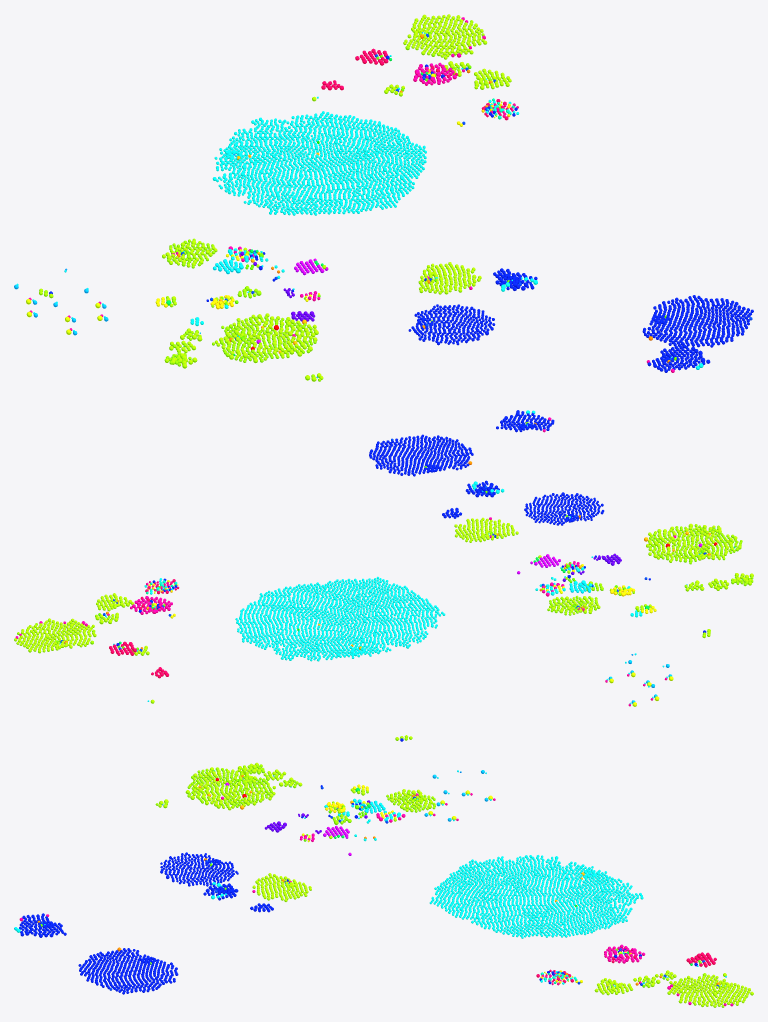
Rendered from task-6e20ac111-layout.gltf.
3 renders of one model, top to bottom at view 1: azimuth 30°, elevation 25°; view 2: azimuth 150°, elevation 25°; view 3: azimuth 270°, elevation 25°, orthographic. The views are drawn at different scales.
Visible parts, largest first — view 1: normal_no_ext_files, normal_md_files, normal_c_files, normal_h_files, normal_pl_files; view 2: normal_no_ext_files, normal_md_files, normal_c_files, normal_h_files, normal_pl_files; view 3: normal_no_ext_files, normal_md_files, normal_c_files, normal_h_files, normal_pl_files.
Part boxes in pixels (x1=…): normal_no_ext_files: x1=190, y1=101, x2=703, y2=367; normal_md_files: x1=49, y1=55, x2=753, y2=372; normal_c_files: x1=162, y1=14, x2=511, y2=381; normal_h_files: x1=44, y1=20, x2=486, y2=381; normal_pl_files: x1=172, y1=17, x2=674, y2=372; normal_no_ext_files: x1=144, y1=410, x2=642, y2=661; normal_md_files: x1=116, y1=410, x2=706, y2=646; normal_c_files: x1=14, y1=517, x2=753, y2=703; normal_h_files: x1=17, y1=524, x2=753, y2=644; normal_pl_files: x1=15, y1=417, x2=676, y2=638; normal_no_ext_files: x1=16, y1=798, x2=643, y2=984; normal_md_files: x1=19, y1=738, x2=697, y2=994; normal_c_files: x1=158, y1=762, x2=753, y2=1007; normal_h_files: x1=155, y1=737, x2=724, y2=1007; normal_pl_files: x1=19, y1=793, x2=733, y2=1006.
Bounding box in the file's own units: 438 × 47.38 × 528.
